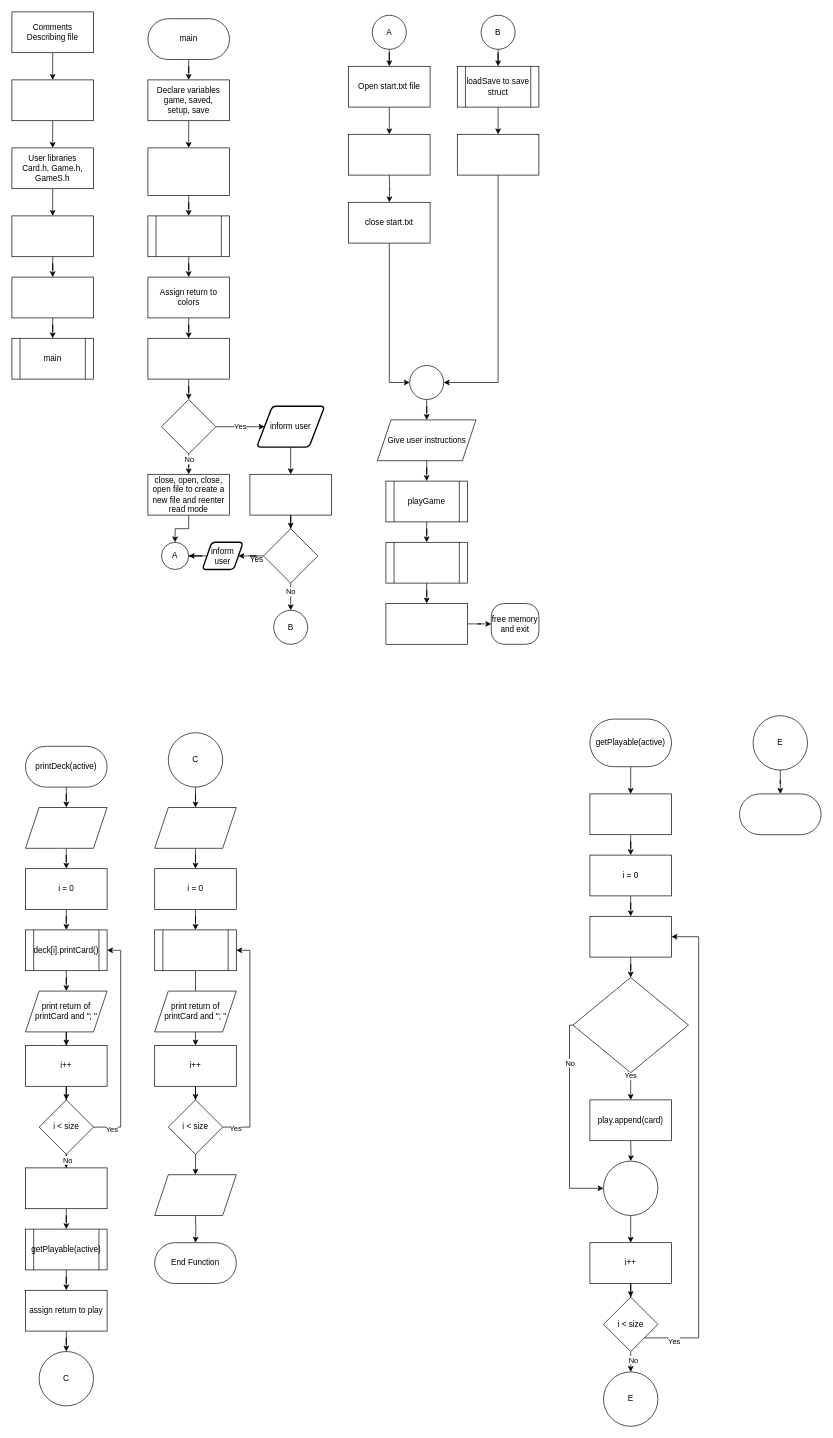
The diagram is 833 pixels wide and 1438 high, and some of its shapes have lost their labels. The shapes that lost their labels are listed below. From the top down, each one's box as (x1, y1, x2, y2) in pixels, then its label:
(11, 79, 94, 121): Libraries iostream, cstdlib, ctime, fstream
(348, 134, 430, 175): create Game instance with start.txt file
(457, 134, 539, 175): create Game instance with save struct
(11, 215, 94, 257): Enums colors types
(147, 215, 230, 257): genColor
(11, 276, 94, 318): Function Prototypes
(147, 338, 230, 379): Open save file using save
(161, 399, 216, 454): saveFile exist?
(249, 474, 332, 515): Read file
(263, 528, 318, 583): is file from a completed game?
(385, 542, 468, 583): createSave
(385, 603, 468, 644): write to save file
(25, 807, 107, 848): "Cards in hand: "
(154, 807, 236, 848): "Playable cards in hand: "
(589, 793, 672, 835): Create variables play
(739, 793, 821, 835): return play and end function
(154, 929, 236, 971): play[i].printCard()
(589, 916, 672, 957): card = hand[i]
(572, 977, 688, 1073): card color == WILD or card.color == active.color or card.name = active.name
(25, 1167, 107, 1209): create variable play
(154, 1174, 236, 1216): endl
